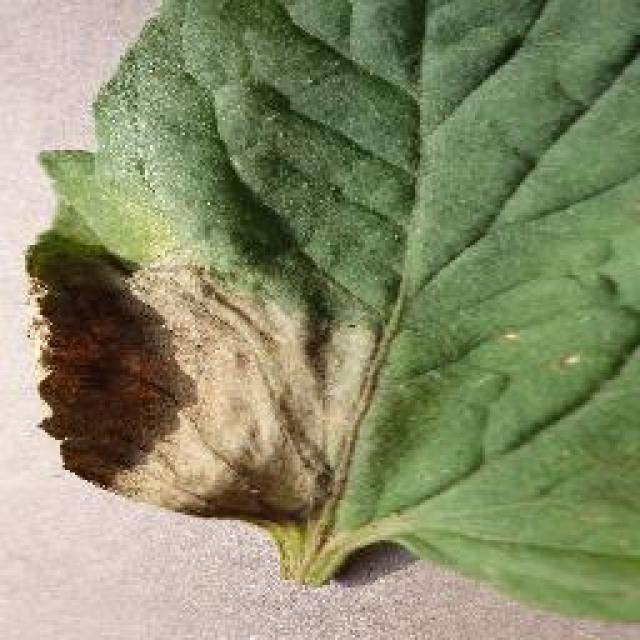Tomato___Late_blight: (16, 0, 638, 628)
